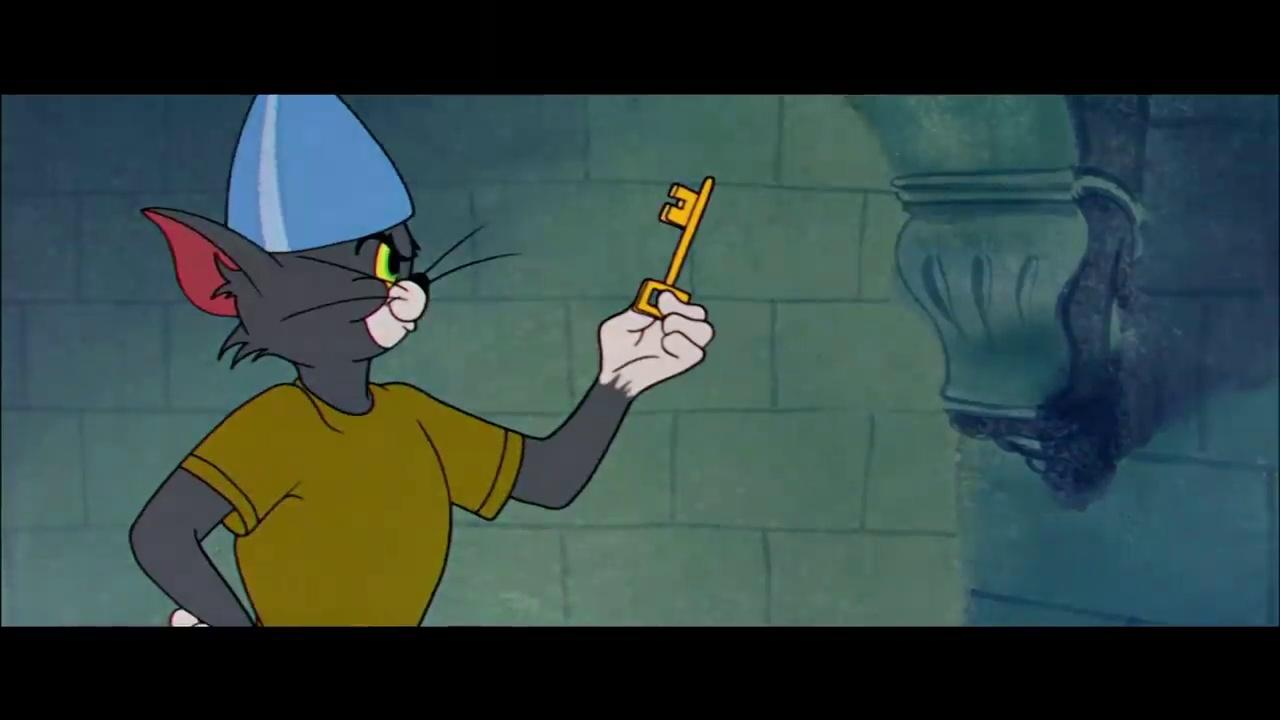Tom: (126, 200, 716, 627)
